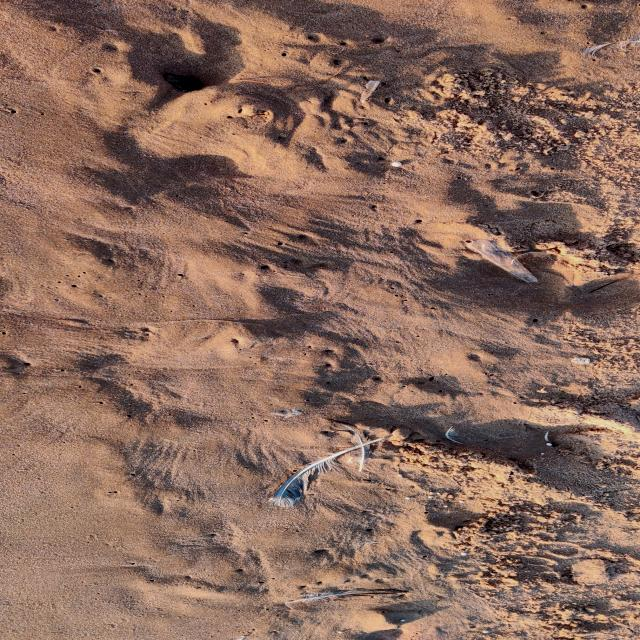Other plastic bottle: (359, 80, 378, 103)
Plastic film: (466, 240, 539, 282)
